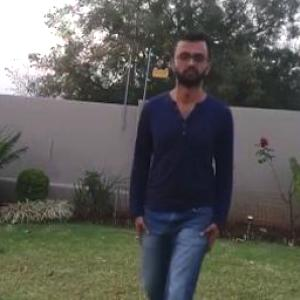follow: (127, 41, 230, 299)
